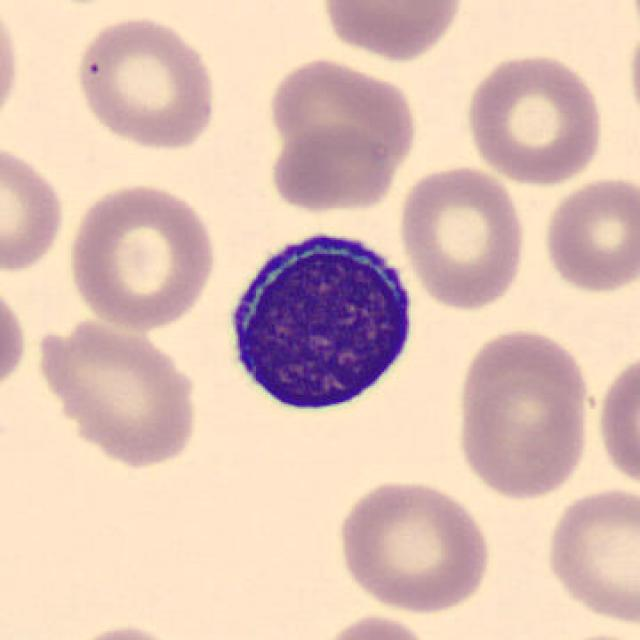Lymphocyte: (213, 217, 423, 425)
RBC: (27, 314, 205, 471), (450, 324, 597, 502), (64, 178, 219, 333), (331, 474, 496, 616), (263, 53, 421, 201), (71, 13, 222, 154), (462, 49, 608, 189), (394, 162, 530, 312), (540, 483, 640, 628), (266, 118, 402, 217), (539, 171, 638, 296), (0, 137, 69, 276), (316, 0, 467, 63), (594, 346, 638, 497), (0, 277, 30, 405), (309, 612, 439, 640), (0, 0, 23, 138), (53, 619, 201, 640), (542, 627, 640, 640)
